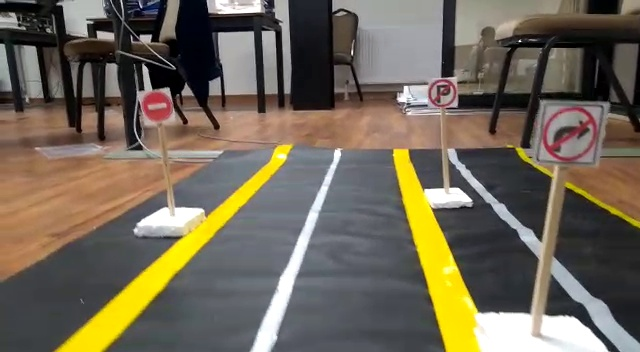girisi_olmayan_yol: (140, 90, 176, 122)
park_yapilmaz: (428, 79, 457, 106)
saga_donulmez: (542, 104, 599, 164)
